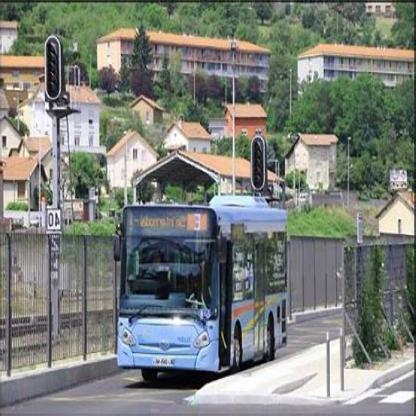bus: (116, 201, 289, 377)
